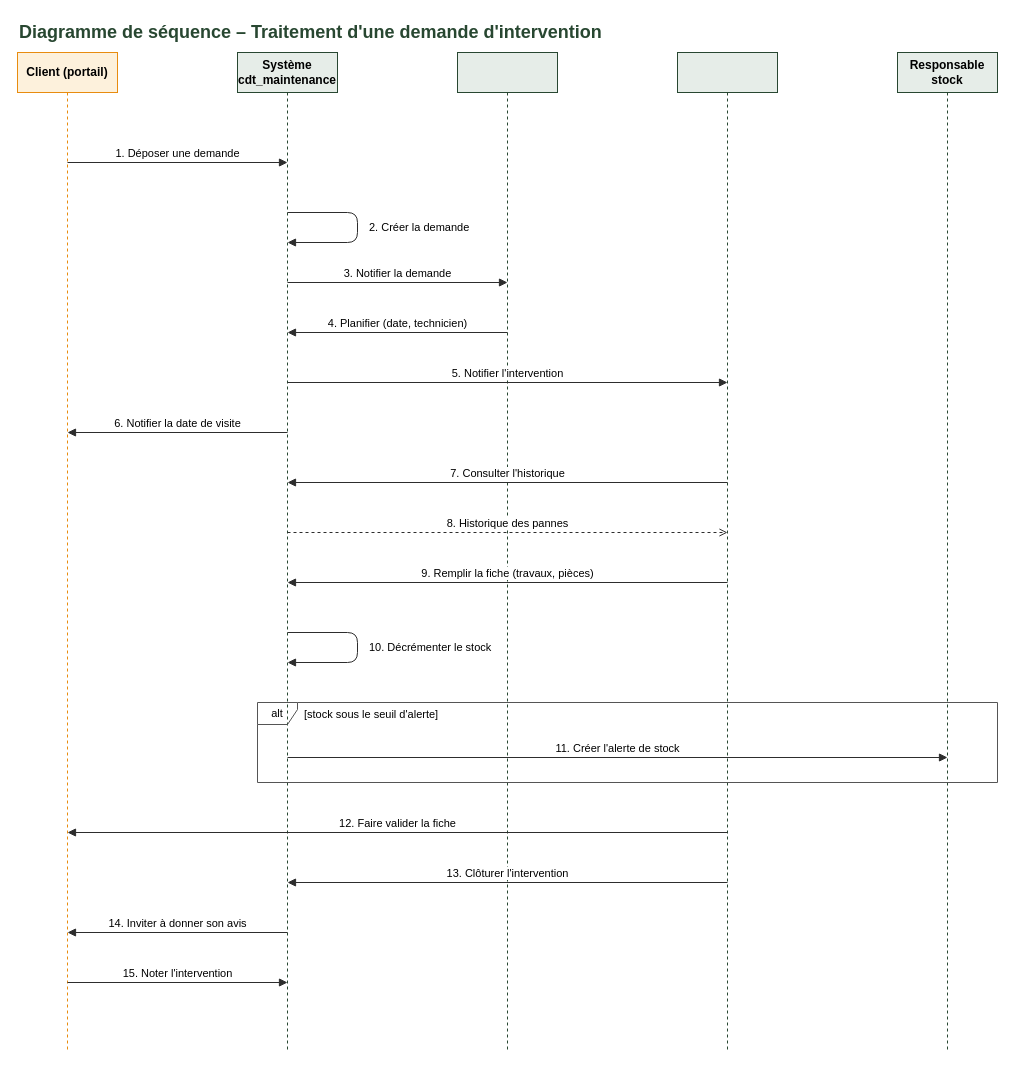
Some shapes in this 1015 by 1070 pixel diagram are drawn without their labels. Each missing label, with the box of its shape:
Chef de maintenance: (456, 52, 558, 1052)
Technicien: (676, 52, 778, 1052)
